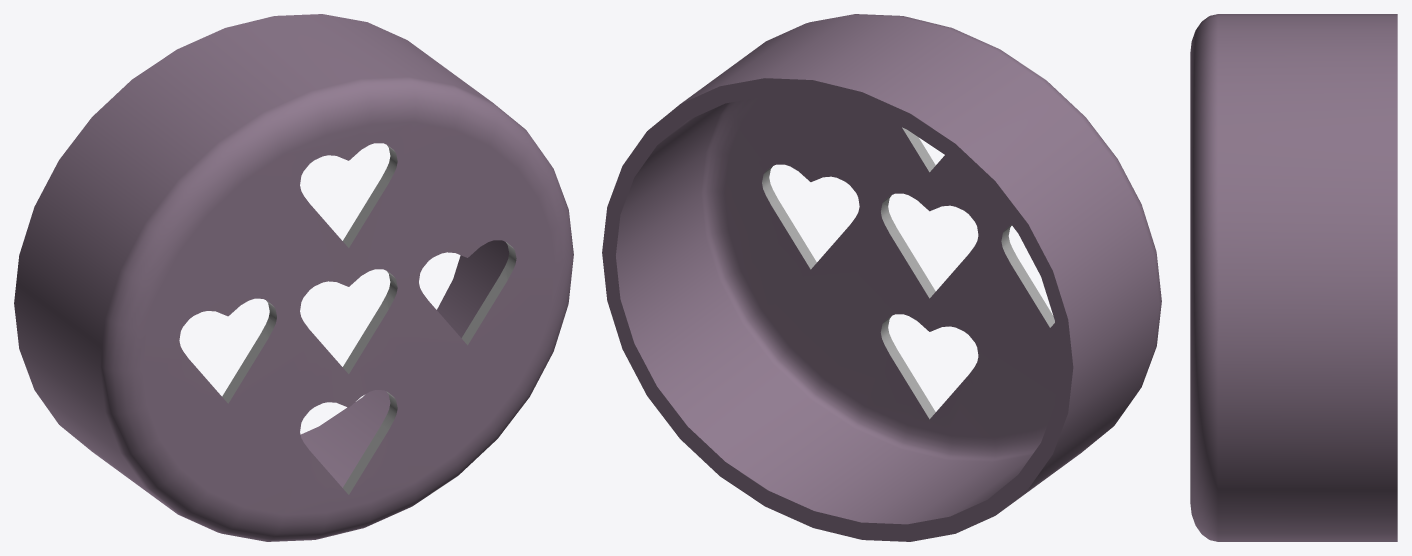
Rendered from pig_heart.fbx.
The picture shows the model from 3 angles, left to right: view 1: azimuth 30°, elevation 25°; view 2: azimuth 150°, elevation 25°; view 3: azimuth 270°, elevation 25°; orthographic projection. The views are drawn at different scales.
Parts seen in each view (by area): view 1: polySurface43; view 2: polySurface43; view 3: polySurface43.
Part boxes in pixels (x1,y1,x2,y2): polySurface43: (14,14,573,541); polySurface43: (602,14,1161,541); polySurface43: (1190,14,1397,541).
Bounding box in the file's own units: 8.15 × 7.4 × 2.97.
